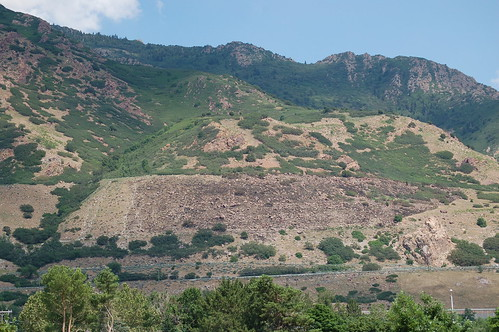mountain: (51, 23, 480, 113)
sky: (37, 2, 499, 63)
vegetation: (25, 267, 499, 332)
